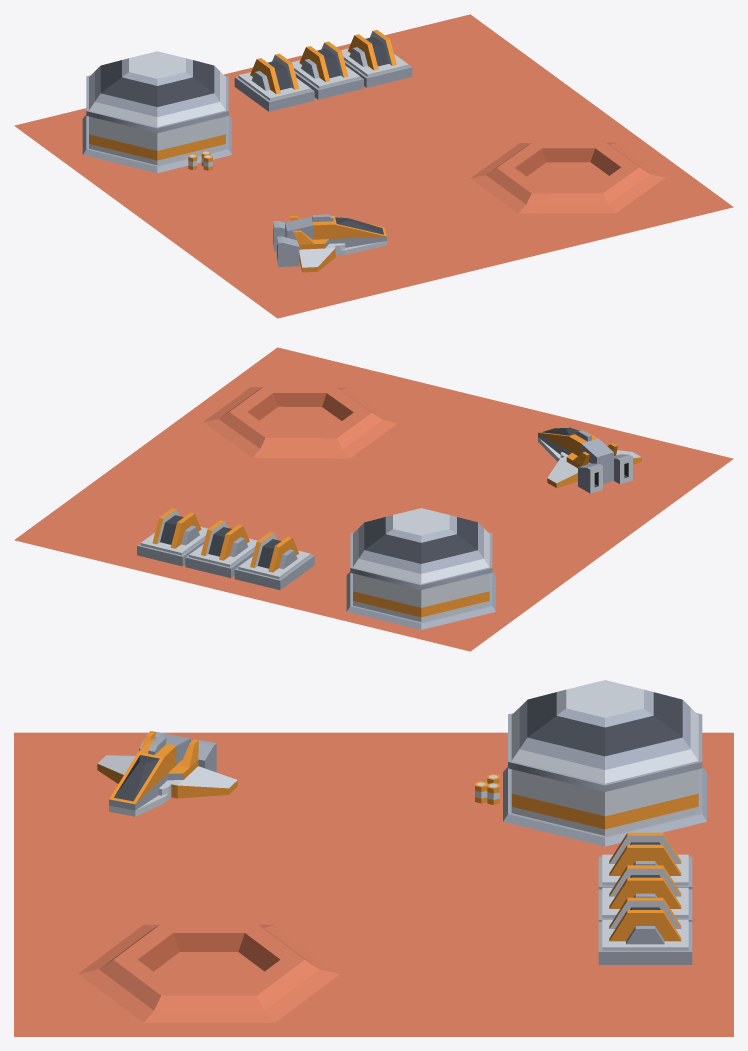
The model's file is level1a.obj.
The picture shows the model from 3 angles, top to bottom: view 1: azimuth 30°, elevation 25°; view 2: azimuth 150°, elevation 25°; view 3: azimuth 270°, elevation 25°; orthographic projection. The views are drawn at different scales.
Visible parts, largest first — view 1: terrain, hangar_roundA, crater, craft_speederA, machine_generatorLarge, machine_generatorLarge.001, machine_generatorLarge.002; view 2: terrain, hangar_roundA, crater, craft_speederA, machine_generatorLarge, machine_generatorLarge.001, machine_generatorLarge.002; view 3: terrain, hangar_roundA, crater, craft_speederA, machine_generatorLarge.002, machine_generatorLarge, machine_generatorLarge.001.
Part boxes in pixels (x1=…): terrain: x1=14, y1=14, x2=733, y2=318; hangar_roundA: x1=82, y1=51, x2=231, y2=172; crater: x1=470, y1=141, x2=665, y2=213; craft_speederA: x1=273, y1=214, x2=386, y2=272; machine_generatorLarge: x1=234, y1=53, x2=314, y2=111; machine_generatorLarge.001: x1=292, y1=41, x2=363, y2=99; machine_generatorLarge.002: x1=341, y1=30, x2=412, y2=87; terrain: x1=14, y1=347, x2=733, y2=651; hangar_roundA: x1=346, y1=508, x2=495, y2=629; crater: x1=203, y1=386, x2=397, y2=458; craft_speederA: x1=538, y1=427, x2=641, y2=493; machine_generatorLarge: x1=234, y1=532, x2=314, y2=590; machine_generatorLarge.001: x1=185, y1=520, x2=257, y2=578; machine_generatorLarge.002: x1=137, y1=508, x2=207, y2=566; terrain: x1=14, y1=732, x2=733, y2=1036; hangar_roundA: x1=503, y1=680, x2=706, y2=846; crater: x1=78, y1=923, x2=339, y2=1022; craft_speederA: x1=97, y1=731, x2=237, y2=816; machine_generatorLarge.002: x1=598, y1=897, x2=692, y2=964; machine_generatorLarge: x1=598, y1=832, x2=692, y2=889; machine_generatorLarge.001: x1=598, y1=865, x2=692, y2=921.
Size of the model in its own units: 10 by 1.5 by 10.
